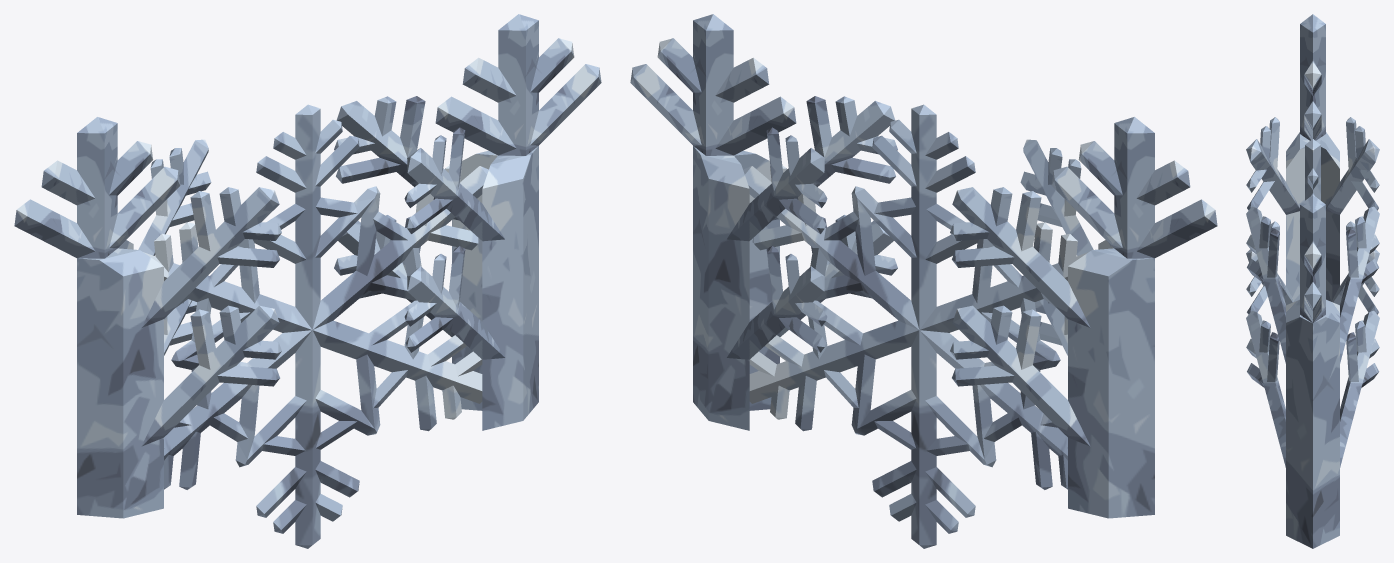
File: Frost Gate.fbx
3 renders of one model, left to right at view 1: azimuth 30°, elevation 25°; view 2: azimuth 150°, elevation 25°; view 3: azimuth 270°, elevation 25°, orthographic. The views are drawn at different scales.
Visible parts, largest first — view 1: Frost_Gate_Sides, Frost_Gate; view 2: Frost_Gate_Sides, Frost_Gate; view 3: Frost_Gate_Sides, Frost_Gate.
Part boxes in pixels (x1,y1,x2,y2): Frost_Gate_Sides: (14, 14, 601, 518); Frost_Gate: (136, 104, 488, 548); Frost_Gate_Sides: (630, 14, 1217, 518); Frost_Gate: (743, 104, 1095, 548); Frost_Gate_Sides: (1246, 14, 1379, 548); Frost_Gate: (1305, 139, 1320, 200).
Bounding box in the file's own units: 12.29 × 9.67 × 2.76.
